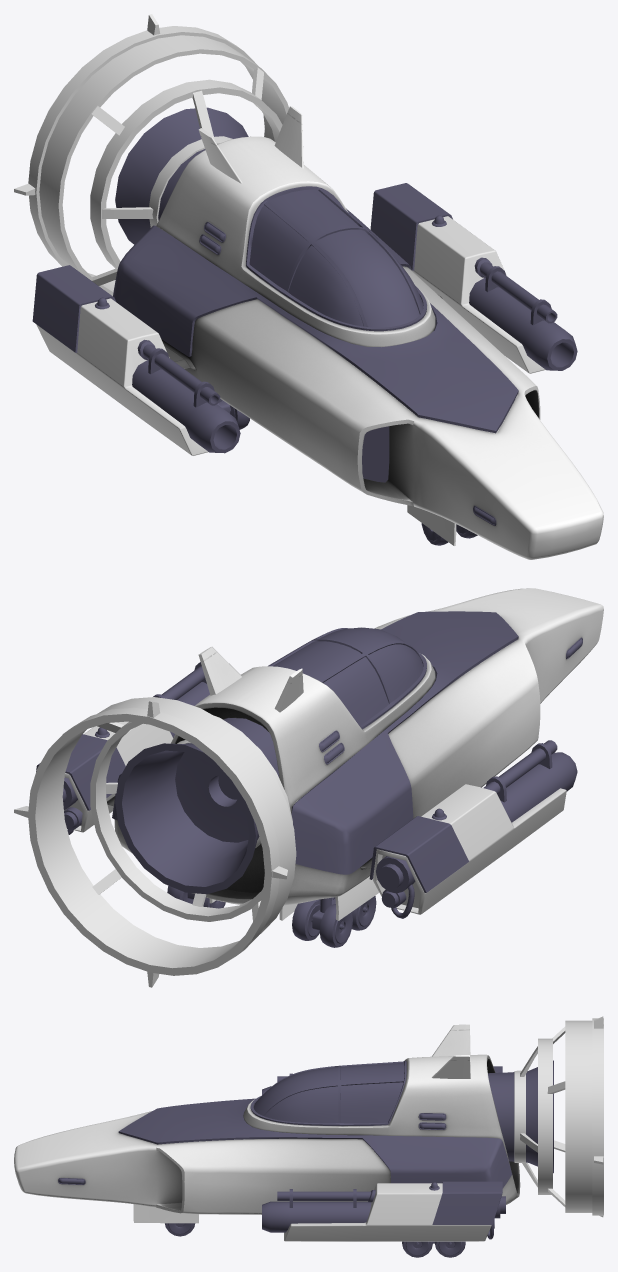
File: SpaceShuttle v2.fbx
3 renders of one model, top to bottom at view 1: azimuth 30°, elevation 25°; view 2: azimuth 150°, elevation 25°; view 3: azimuth 270°, elevation 25°, orthographic. The views are drawn at different scales.
Parts seen in each view (by area): view 1: Main_Body, Engine_Spoiler, Wing_R, Wing_L, Engine, Hatch_Chassis_From_R; view 2: Main_Body, Engine_Spoiler, Engine, Wing_R, Wing_L, Wheels_R_Back_Back, Hatch_Chassis_Back_2_R, Wheels_R_Back_From; view 3: Main_Body, Wing_L, Engine_Spoiler, Engine, Hatch_Chassis_From_L, Wheels_L_Back_Back, Wheels_L_Back_From.
Boxes of the visible parts, box(x1,y1,x2,y2) form: Main_Body: box(113, 106, 603, 559); Engine_Spoiler: box(14, 14, 288, 296); Wing_R: box(32, 265, 240, 455); Wing_L: box(370, 183, 577, 373); Engine: box(115, 107, 248, 244); Hatch_Chassis_From_R: box(407, 505, 456, 545); Main_Body: box(112, 588, 603, 905); Engine_Spoiler: box(14, 697, 296, 987); Engine: box(115, 718, 279, 894); Wing_R: box(360, 740, 577, 918); Wing_L: box(36, 662, 209, 834); Wheels_R_Back_Back: box(292, 899, 352, 947); Hatch_Chassis_Back_2_R: box(335, 876, 379, 920); Wheels_R_Back_From: box(319, 896, 376, 930); Main_Body: box(14, 1024, 520, 1214); Wing_L: box(262, 1181, 505, 1241); Engine_Spoiler: box(514, 1016, 603, 1217); Engine: box(488, 1060, 553, 1173); Hatch_Chassis_From_L: box(133, 1204, 198, 1223); Wheels_L_Back_Back: box(434, 1241, 465, 1257); Wheels_L_Back_From: box(402, 1241, 432, 1257).
Size of what is drawn, in the model's own units: 307 by 227 by 567.
